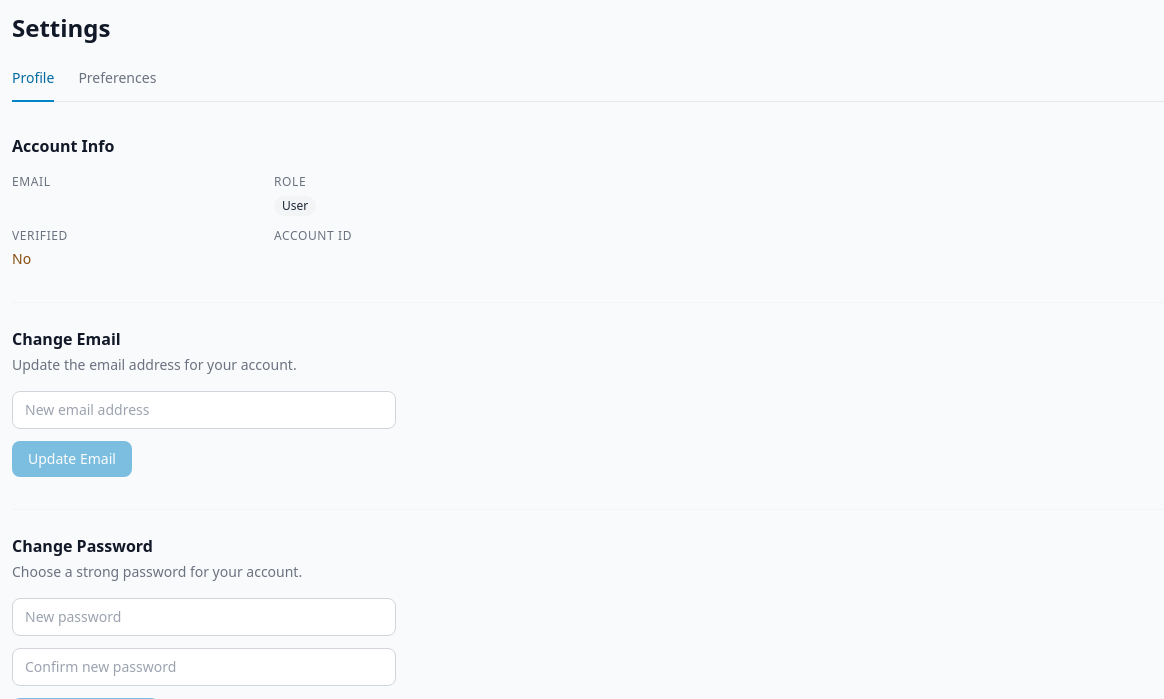
Test: Settings page › Update Email button enables when input has value
This screenshot has width=1164, height=699.
In the field with placeholder "New email address": (204, 410) [12,391,396,429], type "new@test.com"
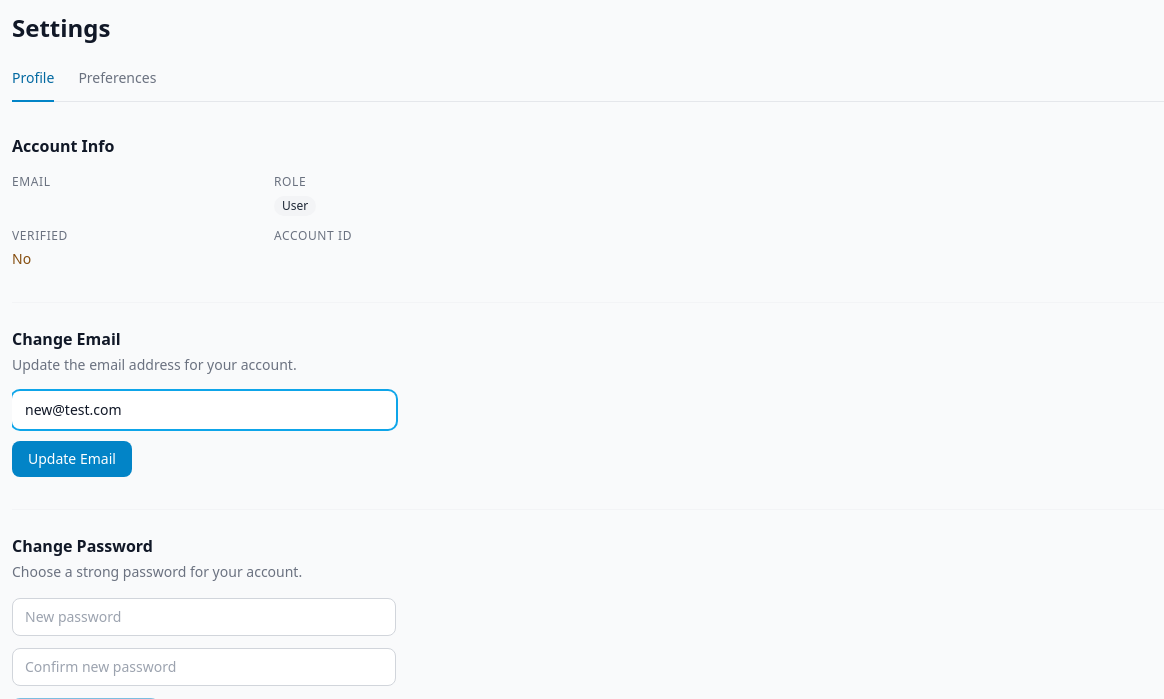
Now the button "Update Email" is enabled, box [12,441,132,477]
